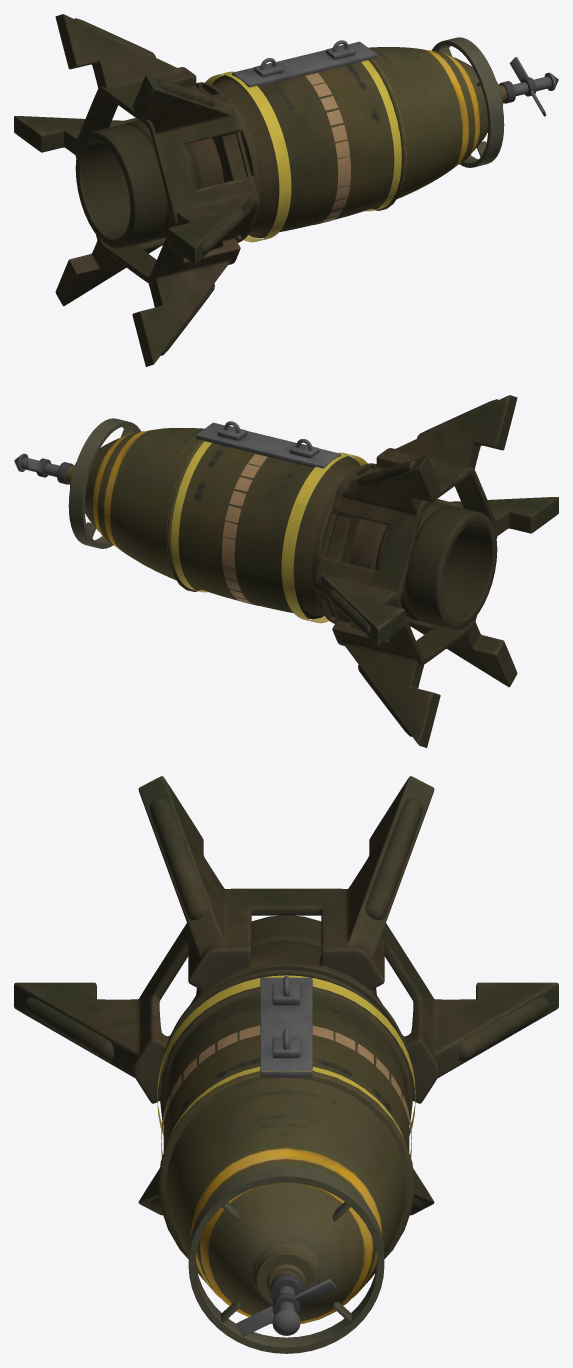
File: hebomb_3.glb
The picture shows the model from 3 angles, top to bottom: view 1: azimuth 30°, elevation 25°; view 2: azimuth 150°, elevation 25°; view 3: azimuth 270°, elevation 25°; orthographic projection. The views are drawn at different scales.
Parts seen in each view (by area): view 1: hebomb_3; view 2: hebomb_3; view 3: hebomb_3.
Part boxes in pixels (<box>): hebomb_3: <box>14,14,558,366</box>; hebomb_3: <box>14,395,558,747</box>; hebomb_3: <box>14,776,558,1353</box>.
Bounding box in the file's own units: 1.13 × 0.6964 × 0.7831.
6 materials, 6 textured.
